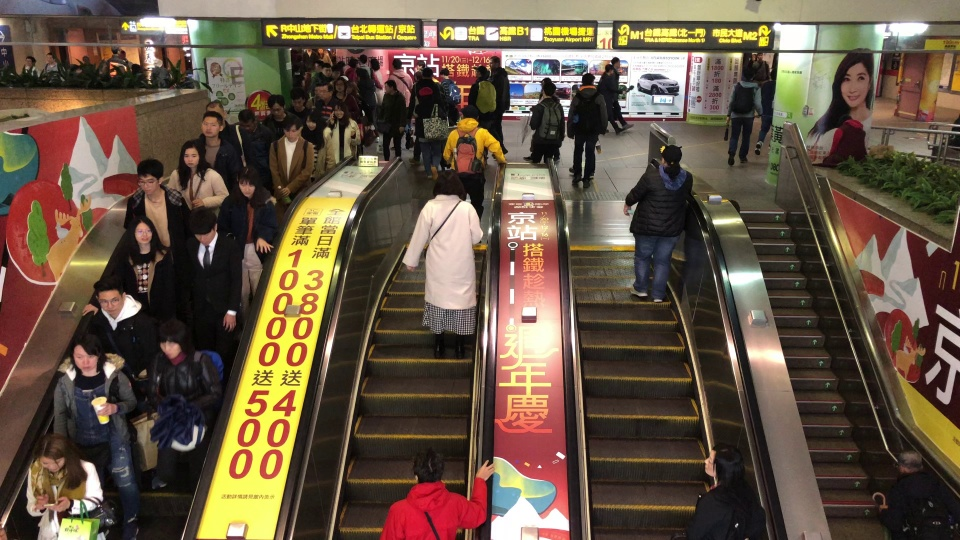person_head: (31, 431, 70, 475), (703, 441, 744, 478), (91, 274, 125, 313), (411, 447, 446, 482), (69, 333, 102, 370), (157, 319, 188, 358), (135, 157, 164, 195), (190, 208, 218, 246), (432, 169, 464, 198), (237, 166, 259, 197), (181, 139, 205, 167), (897, 450, 922, 475), (280, 114, 303, 141), (201, 110, 223, 137), (205, 100, 227, 126), (132, 215, 152, 243), (659, 144, 682, 165), (266, 93, 285, 117), (237, 108, 255, 129), (289, 87, 305, 108), (304, 111, 320, 130), (540, 81, 556, 98), (332, 100, 347, 118), (461, 105, 479, 119), (319, 82, 333, 99), (383, 79, 397, 93), (837, 113, 852, 126), (334, 77, 346, 93), (581, 72, 595, 85), (741, 65, 754, 79), (488, 55, 500, 69), (475, 65, 487, 78), (321, 63, 332, 76), (369, 57, 380, 70), (391, 57, 402, 69), (421, 67, 433, 78), (610, 56, 621, 68), (540, 77, 551, 88), (332, 64, 341, 77), (45, 51, 55, 62), (347, 58, 358, 68), (358, 54, 368, 65), (421, 94, 433, 103), (314, 83, 322, 96), (25, 55, 35, 65), (440, 68, 450, 78), (604, 63, 614, 73), (770, 67, 777, 80), (111, 44, 120, 54), (131, 63, 140, 73), (337, 61, 346, 71), (416, 60, 425, 70), (82, 54, 91, 63), (346, 82, 353, 92), (120, 49, 126, 58), (757, 52, 763, 60), (750, 53, 756, 60), (306, 47, 311, 52), (318, 48, 323, 53)
person_vbox: (54, 333, 140, 540), (401, 169, 484, 360), (149, 319, 223, 491), (90, 273, 157, 443), (623, 143, 693, 303), (378, 446, 495, 540), (81, 215, 172, 318), (25, 431, 108, 540), (442, 105, 506, 246), (182, 208, 241, 353), (216, 166, 276, 308), (686, 441, 766, 540), (878, 450, 956, 540), (122, 157, 188, 251), (268, 114, 315, 224), (566, 73, 608, 188), (166, 139, 229, 209), (522, 77, 567, 164), (725, 64, 763, 167), (406, 66, 441, 164), (193, 110, 239, 177), (811, 114, 867, 169), (528, 81, 565, 164), (467, 66, 496, 169), (598, 56, 634, 133), (414, 94, 445, 179), (298, 111, 334, 184), (357, 53, 385, 142), (488, 55, 511, 160), (389, 58, 413, 151), (379, 79, 406, 161), (325, 100, 360, 163), (598, 63, 627, 136), (205, 100, 242, 156), (754, 67, 777, 156), (261, 93, 301, 137), (231, 107, 274, 143), (368, 58, 385, 121), (333, 78, 361, 115), (439, 67, 462, 105), (315, 82, 336, 121), (106, 44, 129, 76), (39, 51, 64, 79), (310, 63, 333, 91), (752, 51, 770, 85), (288, 87, 309, 116), (24, 55, 39, 76), (301, 47, 317, 63), (347, 58, 358, 80), (317, 47, 332, 62)
